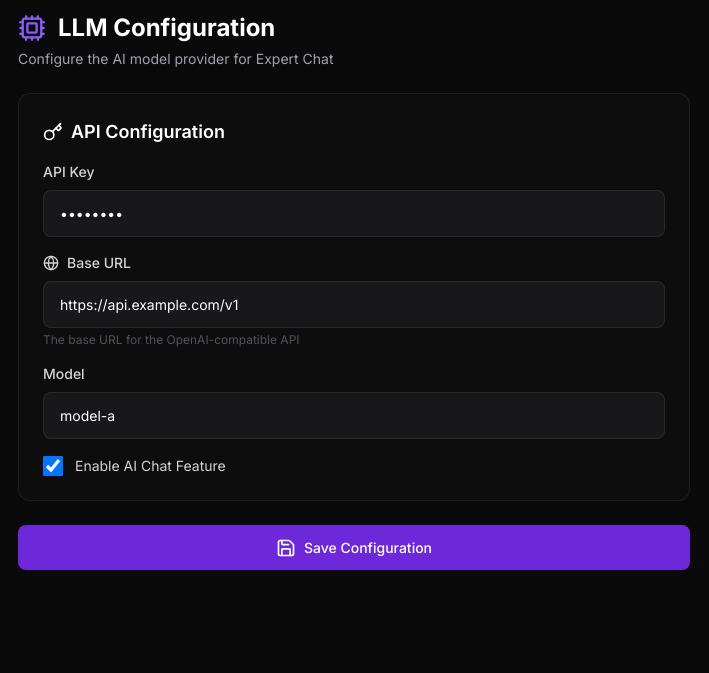
Test case: LLMConfigPage › does not save blank required values
This screenshot has width=709, height=673.
Clear the password field labelled "API Key". click: (354, 214)
box: [43, 190, 665, 237]
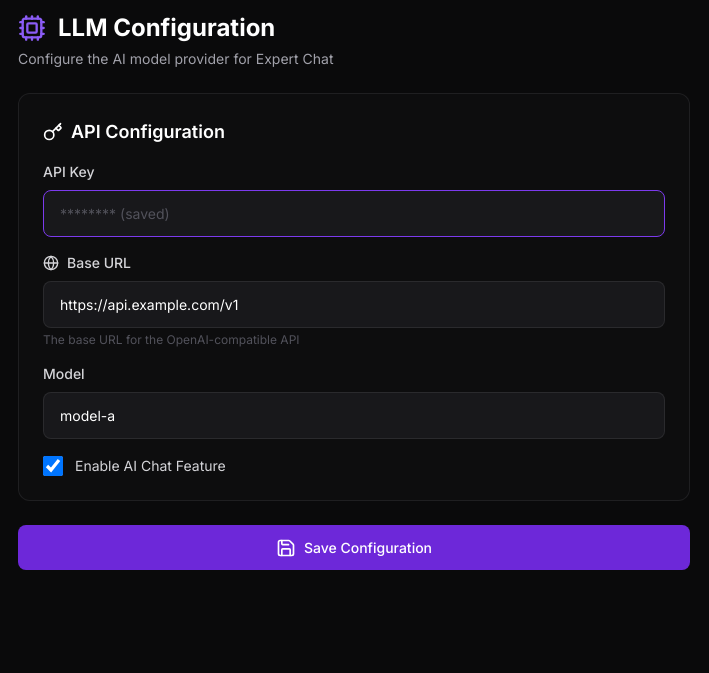
Clear the field labelled "Base URL". click: (354, 304)
box: [43, 281, 665, 328]
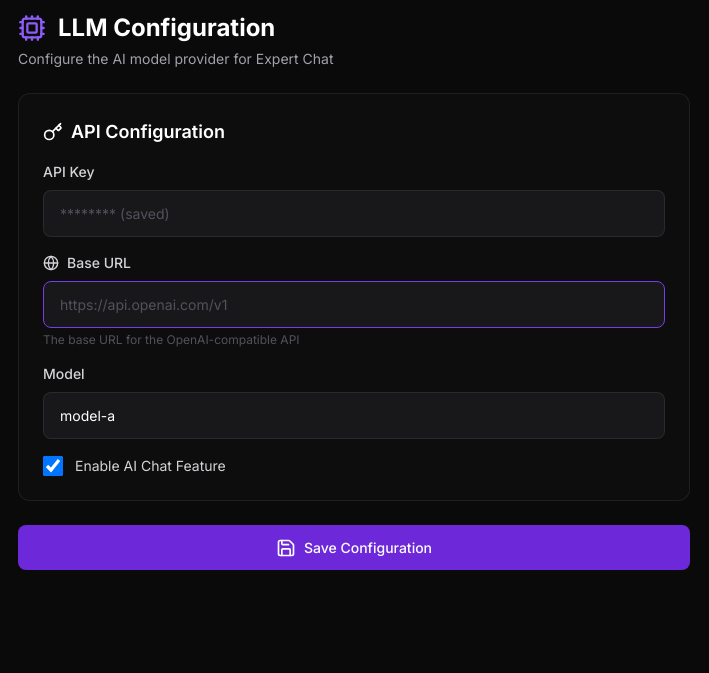
Clear the field labelled "Model". click: (354, 416)
box: [43, 392, 665, 439]
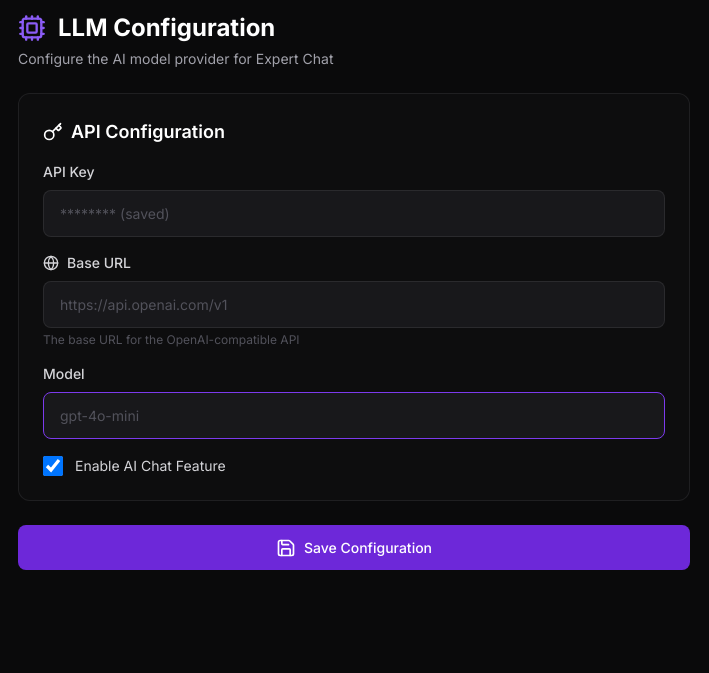
Click the button "Save Configuration". click: (354, 548)
box: [18, 525, 690, 570]
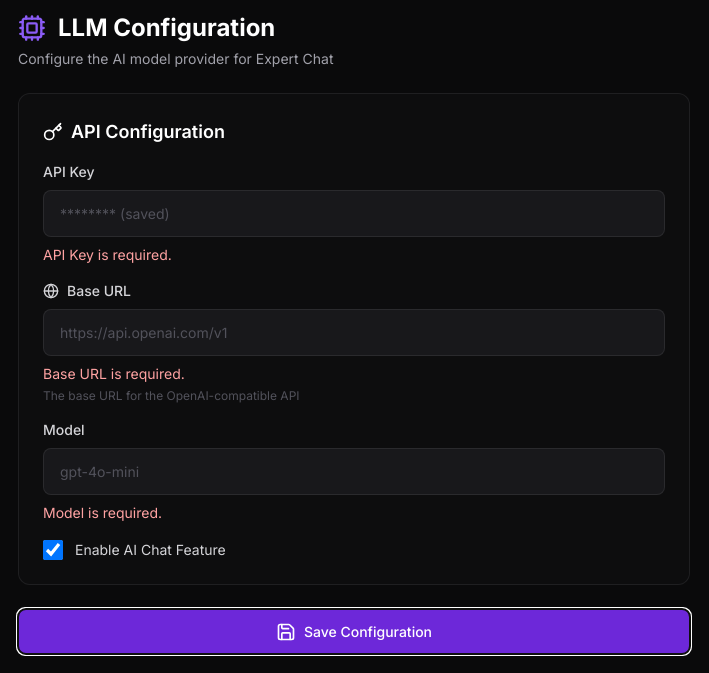
Check: the text "API Key is required." is shown, box [43, 246, 172, 263]
Check: the text "Base URL is required." is shown, box [43, 365, 185, 382]
Check: the text "Model is required." is shown, box [43, 504, 162, 521]
